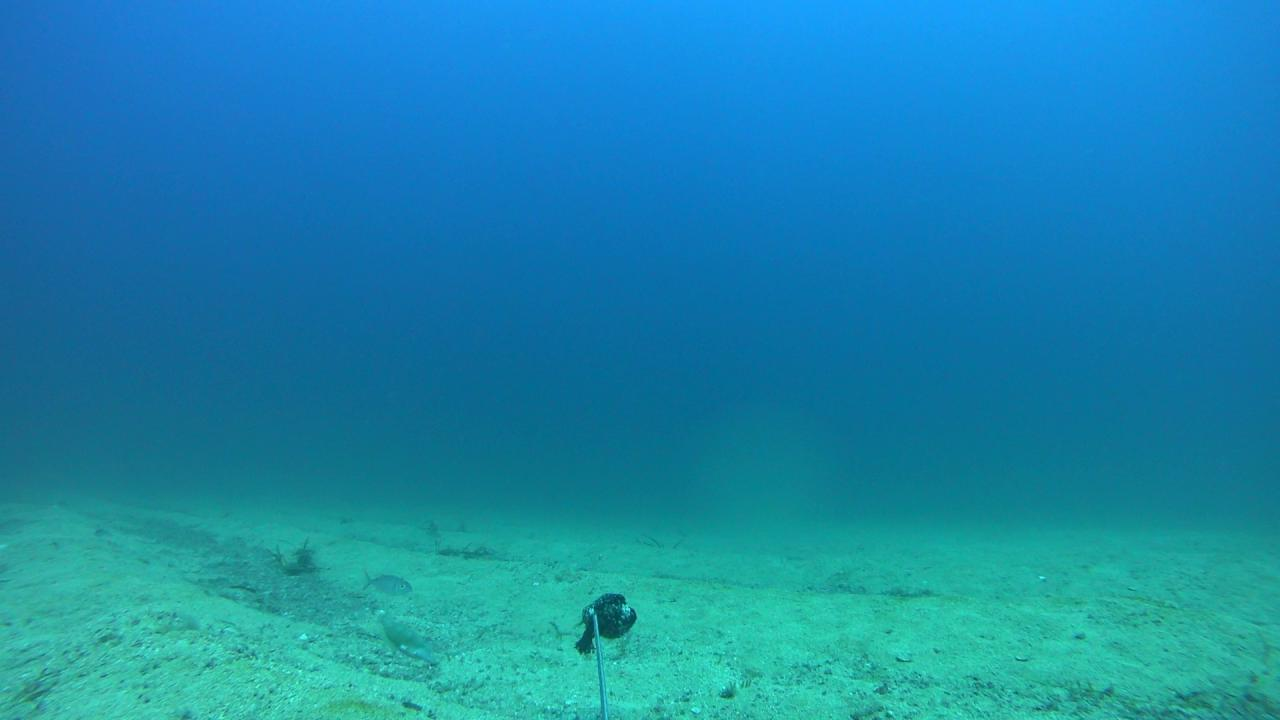pagellus: (361, 571, 412, 597)
